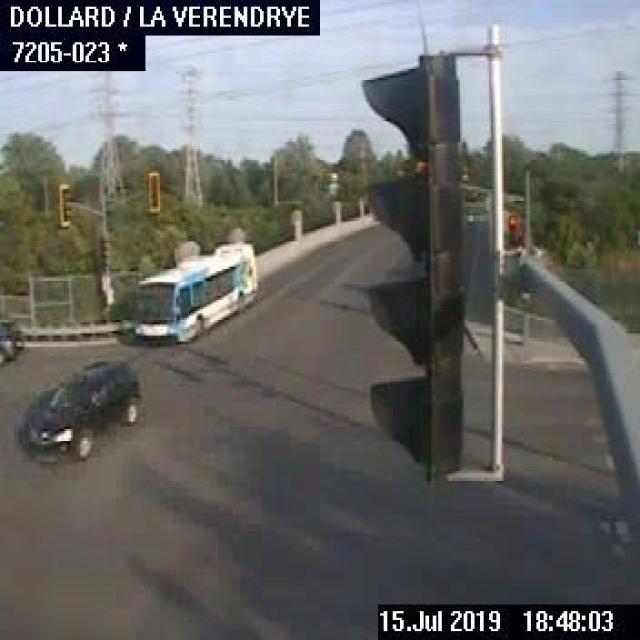bus: (133, 238, 258, 344)
vehicle: (20, 356, 142, 466), (0, 313, 25, 366)
